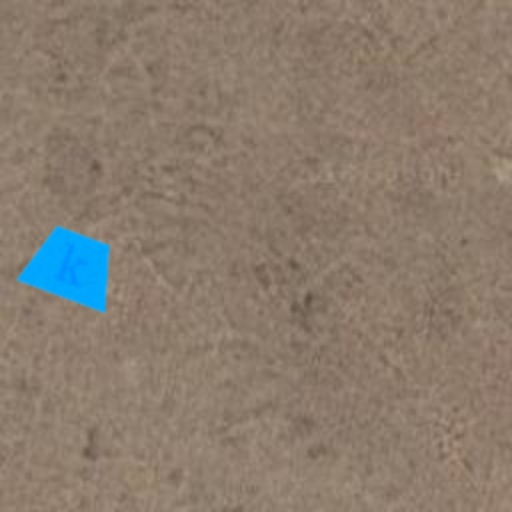trapezoid: (10, 204, 134, 328)
